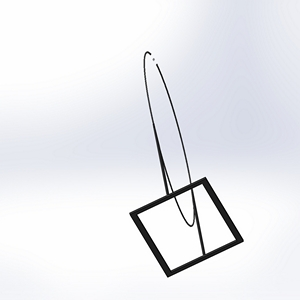circle: (127, 50, 245, 278)
